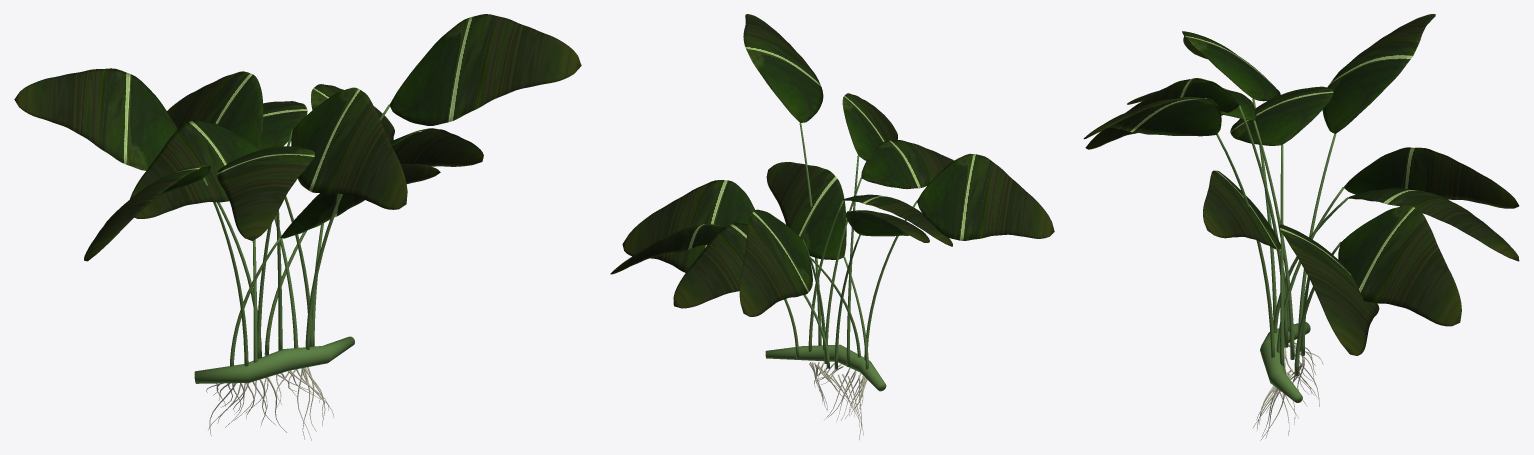
Rendered from anubias-desktop.glb.
The picture shows the model from 3 angles, left to right: view 1: azimuth 30°, elevation 25°; view 2: azimuth 150°, elevation 25°; view 3: azimuth 270°, elevation 25°; orthographic projection. The views are drawn at different scales.
Visible parts, largest first — view 1: photographic-broad-leaf.008, photographic-broad-leaf.004, photographic-broad-leaf.003, photographic-broad-leaf.009, photographic-broad-leaf.006, photographic-broad-leaf.007, creeping-rhizome, photographic-broad-leaf.005, photographic-broad-leaf.001, photographic-broad-leaf, photographic-broad-leaf.002, curved-petiole.008 (+4 smaller); view 2: photographic-broad-leaf.001, photographic-broad-leaf.007, photographic-broad-leaf, photographic-broad-leaf.005, photographic-broad-leaf.008, photographic-broad-leaf.002, photographic-broad-leaf.006, photographic-broad-leaf.003, photographic-broad-leaf.010, creeping-rhizome, photographic-broad-leaf.004, photographic-broad-leaf.009 (+5 smaller); view 3: photographic-broad-leaf.010, photographic-broad-leaf.007, photographic-broad-leaf.004, photographic-broad-leaf.005, photographic-broad-leaf.008, photographic-broad-leaf.009, photographic-broad-leaf, photographic-broad-leaf.002, photographic-broad-leaf.001, photographic-broad-leaf.003, creeping-rhizome, curved-petiole.006 (+8 smaller).
Part boxes in pixels (box(x1,y1,x2,y2)): photographic-broad-leaf.008: box(389, 14, 581, 125); photographic-broad-leaf.004: box(14, 68, 177, 170); photographic-broad-leaf.003: box(291, 87, 407, 209); photographic-broad-leaf.009: box(130, 120, 261, 218); photographic-broad-leaf.006: box(217, 146, 314, 240); photographic-broad-leaf.007: box(167, 71, 263, 148); creeping-rhizome: box(194, 336, 354, 383); photographic-broad-leaf.005: box(390, 128, 483, 166); photographic-broad-leaf.001: box(84, 165, 210, 261); photographic-broad-leaf: box(280, 164, 440, 238); photographic-broad-leaf.002: box(261, 101, 307, 149); curved-petiole.008: box(305, 104, 389, 349); photographic-broad-leaf.001: box(917, 153, 1054, 240); photographic-broad-leaf.007: box(739, 209, 812, 316); photographic-broad-leaf: box(766, 162, 846, 259); photographic-broad-leaf.005: box(622, 180, 754, 272); photographic-broad-leaf.008: box(743, 14, 823, 122); photographic-broad-leaf.002: box(673, 223, 748, 308); photographic-broad-leaf.006: box(861, 140, 953, 189); photographic-broad-leaf.003: box(842, 93, 897, 161); photographic-broad-leaf.010: box(610, 224, 724, 274); creeping-rhizome: box(765, 344, 886, 391); photographic-broad-leaf.004: box(846, 210, 929, 242); photographic-broad-leaf.009: box(842, 194, 952, 246); photographic-broad-leaf.010: box(1338, 205, 1461, 326); photographic-broad-leaf.007: box(1343, 147, 1519, 208); photographic-broad-leaf.004: box(1322, 14, 1435, 133); photographic-broad-leaf.005: box(1279, 224, 1379, 355); photographic-broad-leaf.008: box(1083, 97, 1221, 139); photographic-broad-leaf.009: box(1230, 86, 1333, 145); photographic-broad-leaf: box(1203, 170, 1280, 249); photographic-broad-leaf.002: box(1347, 188, 1519, 261); photographic-broad-leaf.001: box(1182, 31, 1280, 101); photographic-broad-leaf.003: box(1085, 78, 1239, 149); creeping-rhizome: box(1260, 322, 1310, 402); curved-petiole.006: box(1253, 120, 1294, 359).
Bounding box in the file's own units: 0.7804 × 0.6583 × 0.6309.
3 materials, 1 textured.
